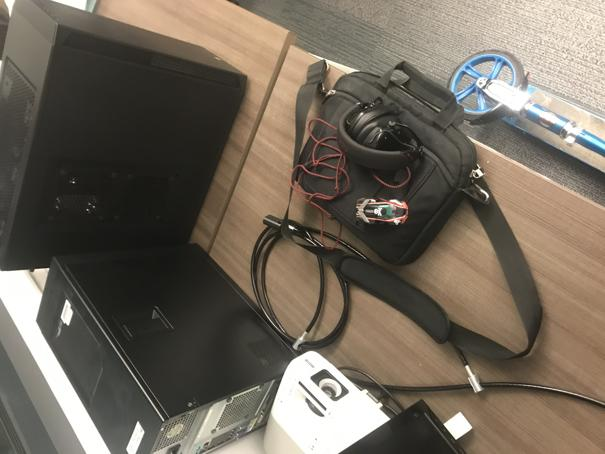Skull: (354, 196, 411, 227)
